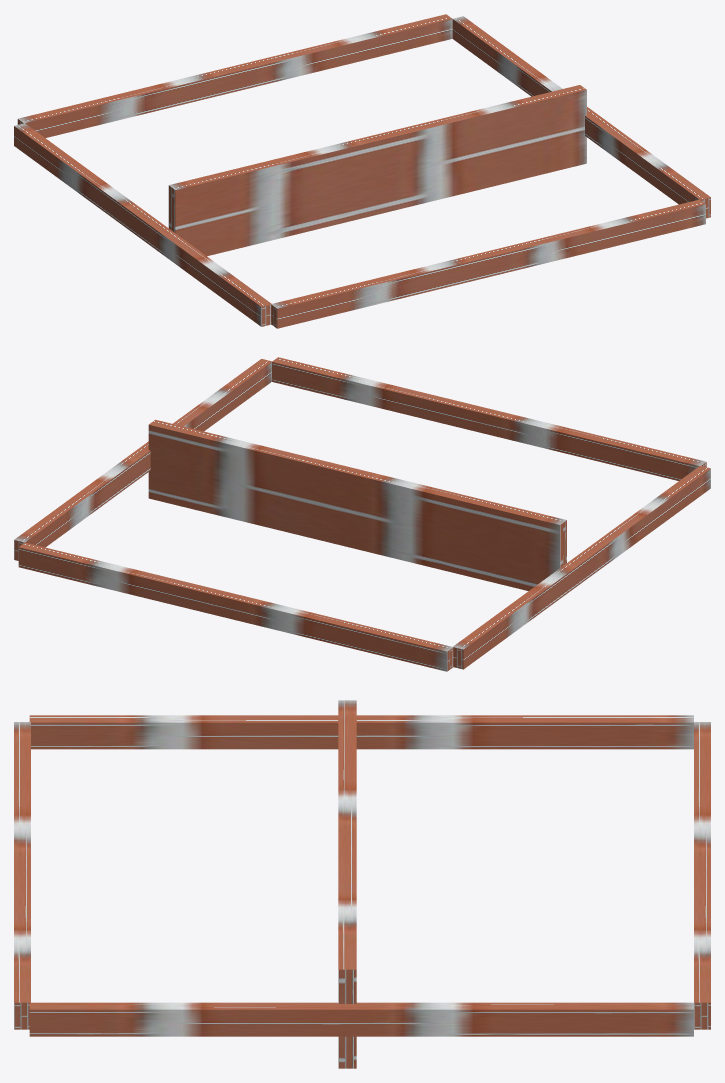
Rendered from maze1.obj.
3 renders of one model, top to bottom at view 1: azimuth 30°, elevation 25°; view 2: azimuth 150°, elevation 25°; view 3: azimuth 270°, elevation 25°, orthographic. The views are drawn at different scales.
Visible parts, largest first — view 1: Cube.004_Cube.005, Cube.002_Cube.003, Cube.005_Cube.008, Cube.003_Cube.007, Cube.001_Cube.002; view 2: Cube.004_Cube.005, Cube.005_Cube.008, Cube.002_Cube.003, Cube.003_Cube.007, Cube.001_Cube.002; view 3: Cube.001_Cube.002, Cube.003_Cube.007, Cube.004_Cube.005, Cube.005_Cube.008, Cube.002_Cube.003.
Part boxes in pixels (<box>): Cube.004_Cube.005: <box>168,85,586,256</box>; Cube.002_Cube.003: <box>271,199,705,328</box>; Cube.005_Cube.008: <box>17,14,452,137</box>; Cube.003_Cube.007: <box>14,123,271,326</box>; Cube.001_Cube.002: <box>452,16,710,218</box>; Cube.004_Cube.005: <box>148,419,566,590</box>; Cube.005_Cube.008: <box>18,542,453,671</box>; Cube.002_Cube.003: <box>272,357,706,480</box>; Cube.003_Cube.007: <box>453,466,710,669</box>; Cube.001_Cube.002: <box>14,359,271,560</box>; Cube.001_Cube.002: <box>29,1002,693,1036</box>; Cube.003_Cube.007: <box>29,715,693,749</box>; Cube.004_Cube.005: <box>338,700,356,1068</box>; Cube.005_Cube.008: <box>694,722,710,1029</box>; Cube.002_Cube.003: <box>14,722,30,1029</box>.
Bounding box in the file's own units: 20.74 × 3.25 × 20.74.
